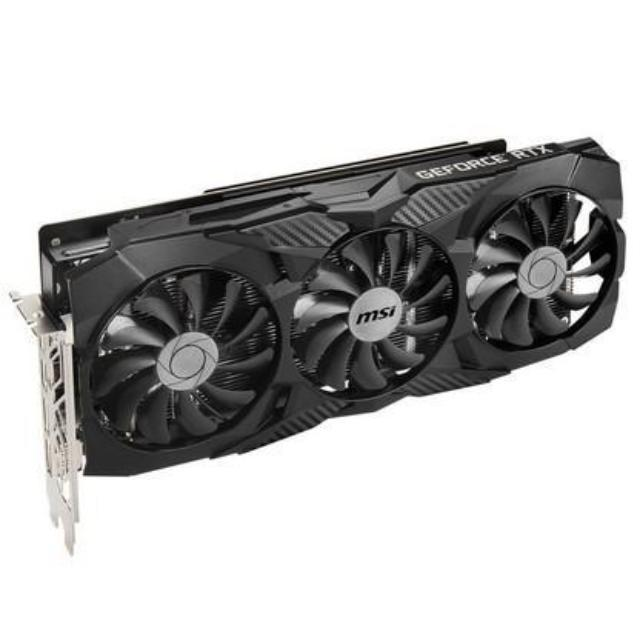GPU: (38, 128, 638, 488)
